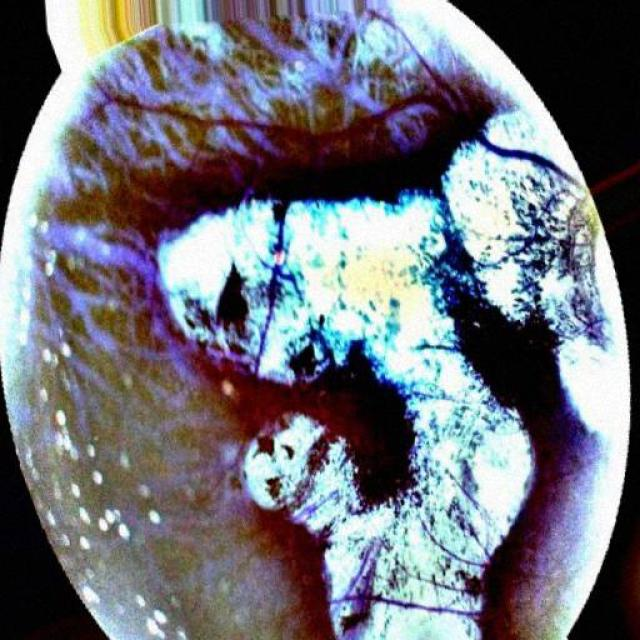Nerves: (206, 56, 495, 156), (480, 139, 571, 179), (108, 94, 172, 111)
